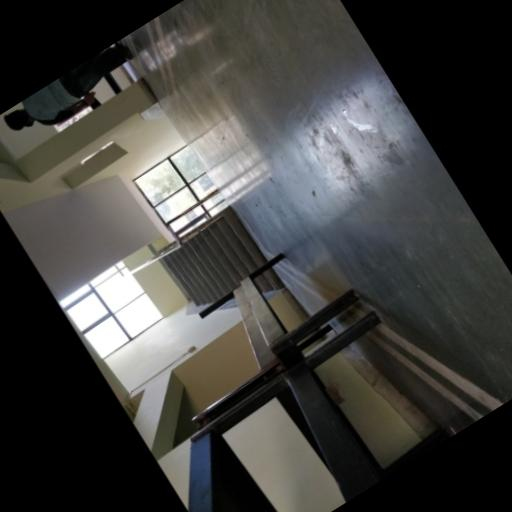stairs: (161, 205, 266, 304)
